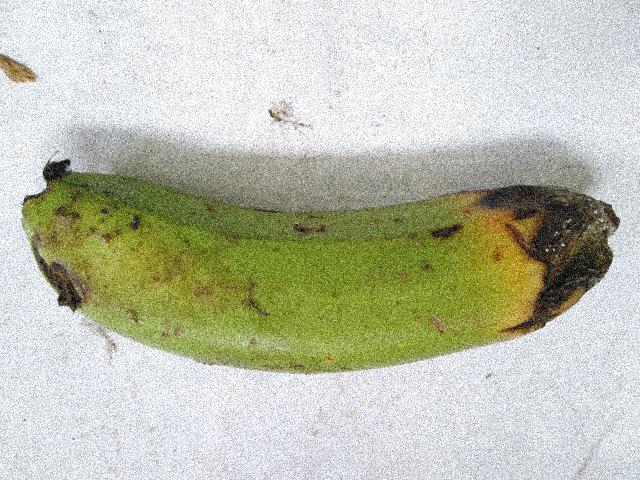rotten: (442, 148, 611, 345)
unripe: (16, 138, 475, 401)
